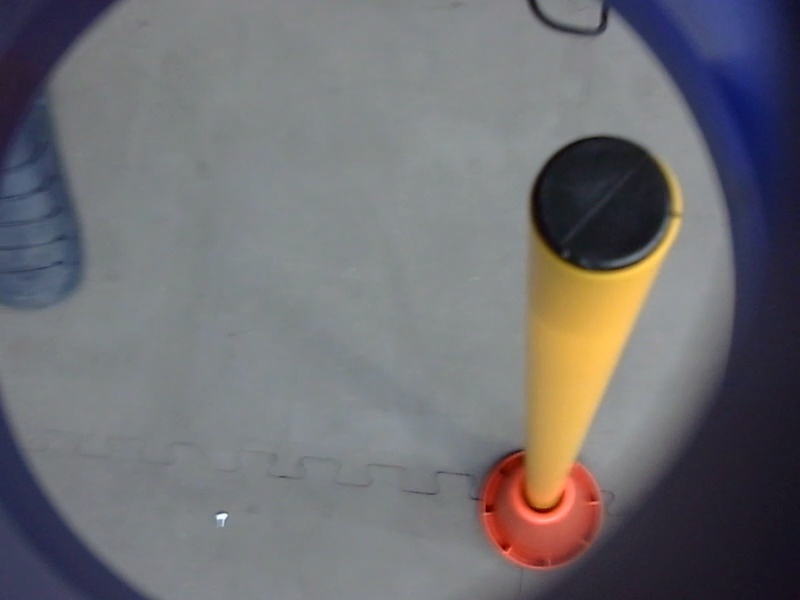tip: (518, 125, 691, 284)
